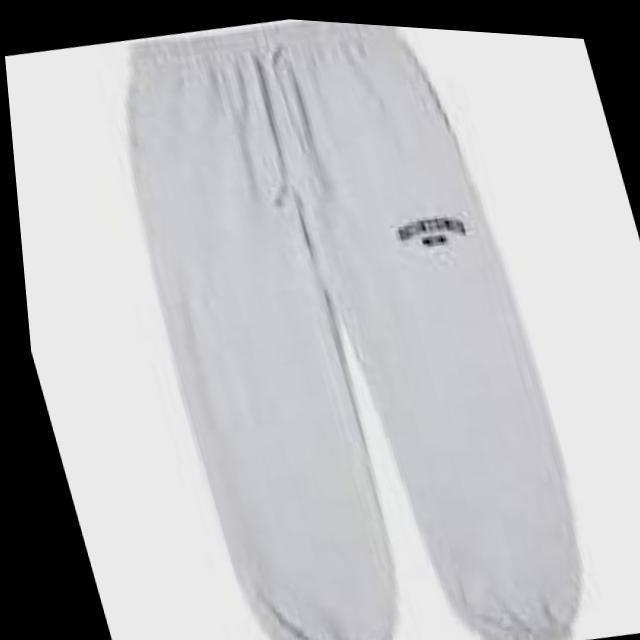pants: (126, 20, 582, 639)
